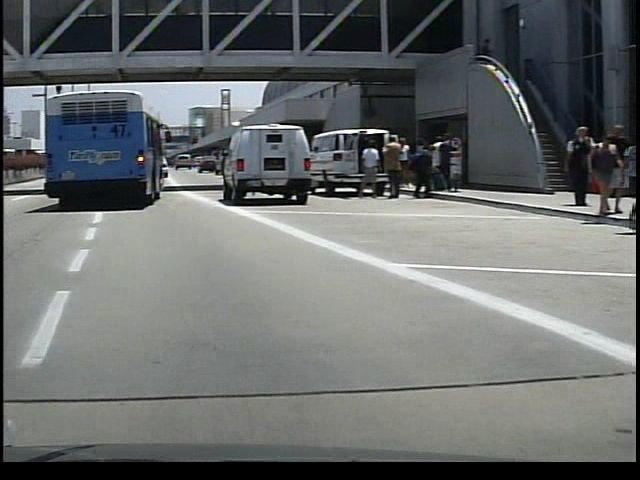person: (376, 134, 401, 200), (352, 134, 376, 198)
